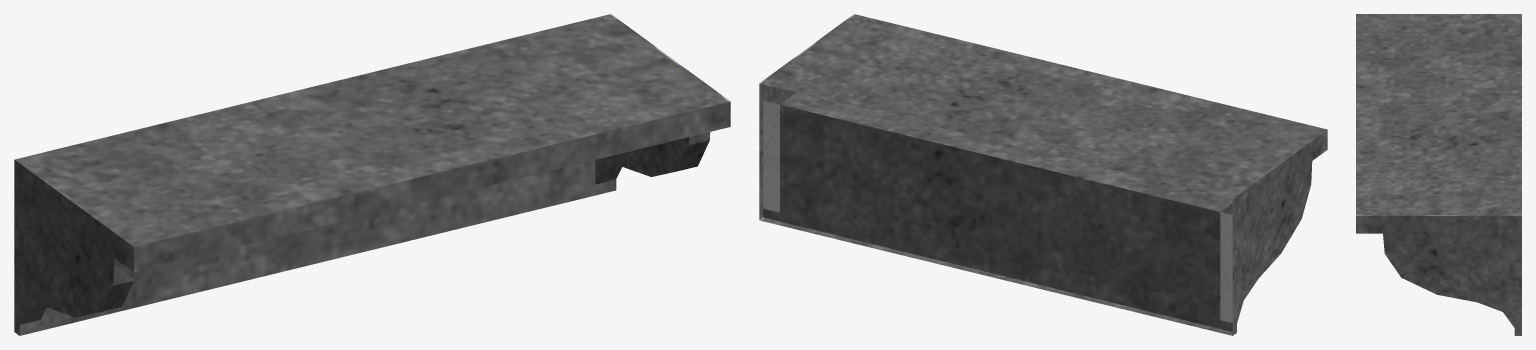
The model's file is SM_Dungeon_Shelf_Stone.fbx.
The picture shows the model from 3 angles, left to right: view 1: azimuth 30°, elevation 25°; view 2: azimuth 150°, elevation 25°; view 3: azimuth 270°, elevation 25°; orthographic projection. The views are drawn at different scales.
Parts seen in each view (by area): view 1: SM_Dungeon_Shelf_Stone; view 2: SM_Dungeon_Shelf_Stone; view 3: SM_Dungeon_Shelf_Stone.
Boxes of the visible parts, x1,y1,x2,y2 form: SM_Dungeon_Shelf_Stone: (14, 14, 730, 335); SM_Dungeon_Shelf_Stone: (759, 14, 1327, 335); SM_Dungeon_Shelf_Stone: (1356, 14, 1521, 335).
Size of the model in its own units: 138 by 38.11 by 47.83.
